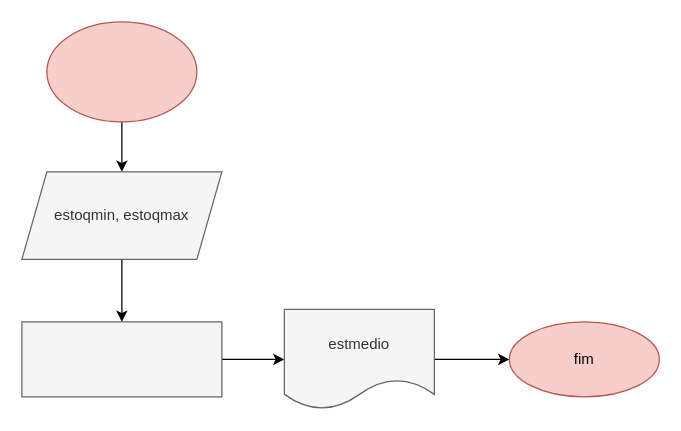
Some shapes in this 681 by 431 pixel diagram are drawn without their labels. Here are the shapes that lost their labels. From the top down, the box of each, then its label:
(46, 21, 197, 122): inicio
(21, 321, 222, 397): estmedio <- (estoqmin+estoqmax)/2
